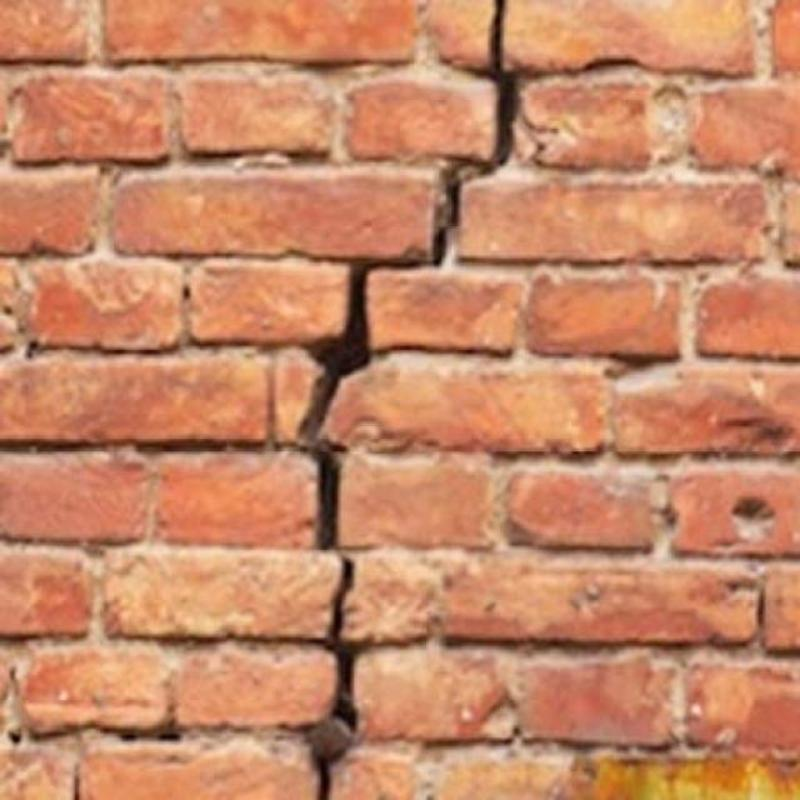crack: (300, 0, 517, 549), (308, 559, 356, 799)
